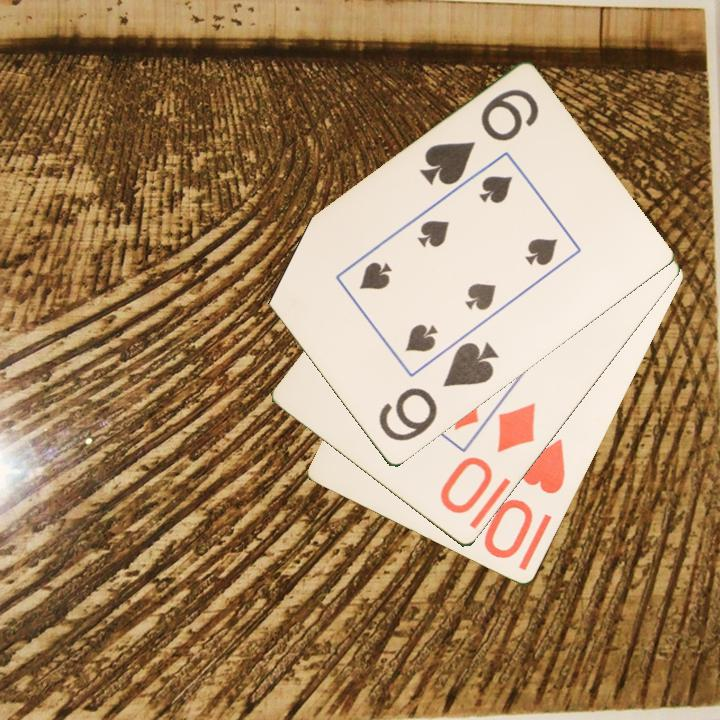10d: (436, 400, 539, 518)
10h: (481, 435, 569, 563)
6s: (374, 338, 502, 445), (415, 85, 542, 189)
